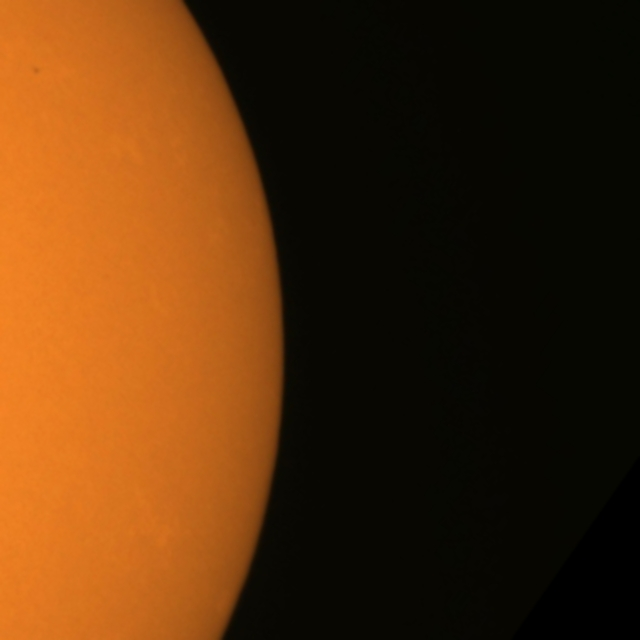sunspot: (30, 64, 43, 77)
